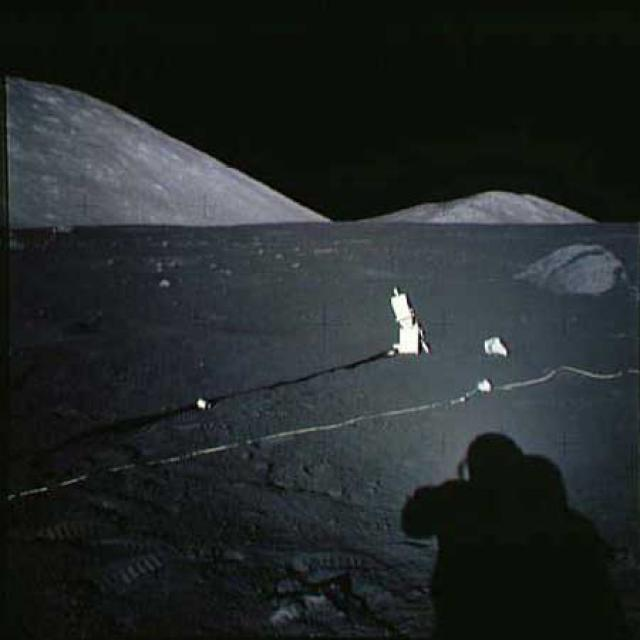artifact: (381, 284, 433, 358), (478, 331, 510, 358)
rock: (512, 229, 630, 299), (156, 272, 174, 289)
